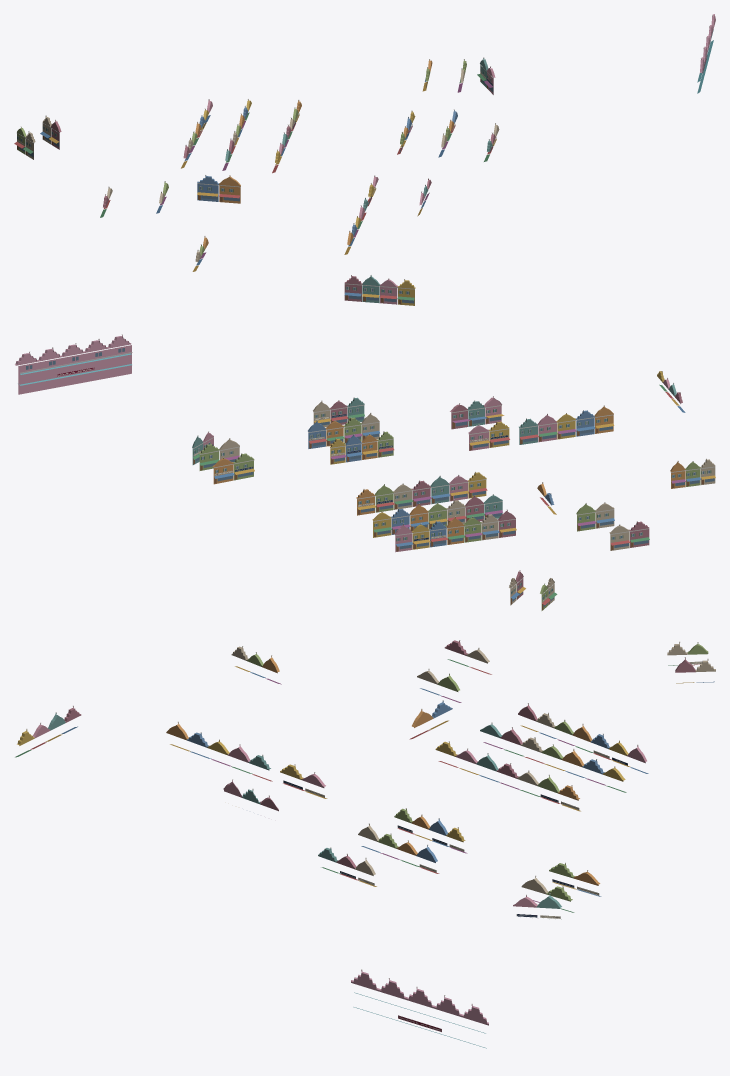
The model's file is ora_harbor.glb.
3 renders of one model, top to bottom at view 1: azimuth 30°, elevation 25°; view 2: azimuth 150°, elevation 25°; view 3: azimuth 270°, elevation 25°, orthographic. The views are drawn at different scales.
Parts seen in each view (by area): view 1: ora_harbor_lod0; view 2: ora_harbor_lod0; view 3: ora_harbor_lod0.
Boxes of the visible parts, x1=… form: ora_harbor_lod0: x1=14, y1=14, x2=715, y2=305; ora_harbor_lod0: x1=15, y1=334, x2=715, y2=610; ora_harbor_lod0: x1=15, y1=640, x2=715, y2=1048.
Size of what is drawn, in the model's own units: 218 by 17.18 by 157.
Materials: 3 (1 with a texture image).
